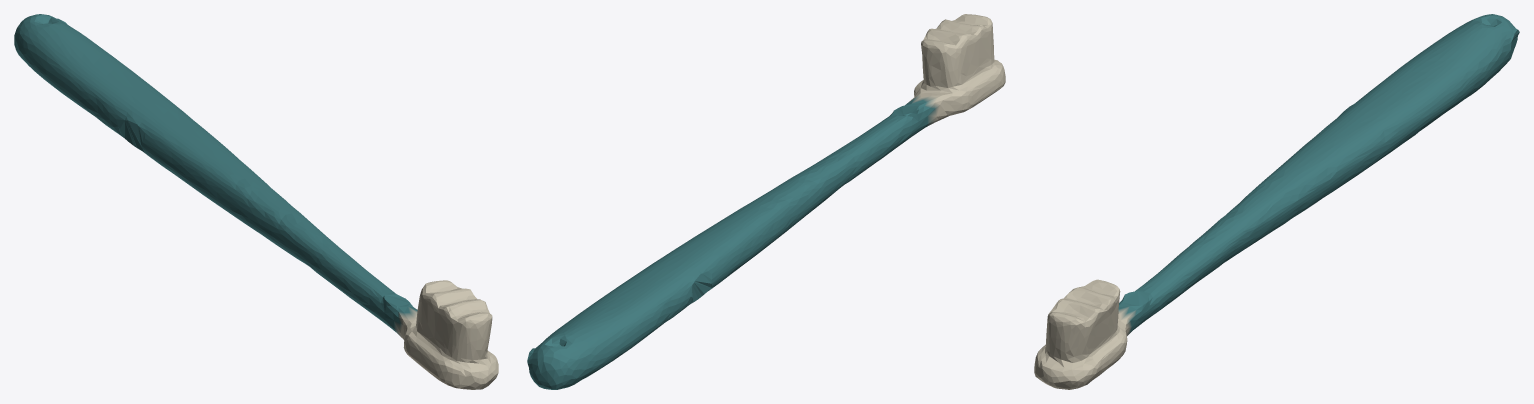
3 renders of one model, left to right at view 1: azimuth 30°, elevation 25°; view 2: azimuth 150°, elevation 25°; view 3: azimuth 330°, elevation 25°, orthographic.
Parts seen in each view (by area): view 1: scan.ply; view 2: scan.ply; view 3: scan.ply.
Part boxes in pixels (left/top/right/bottom): scan.ply: left=14, top=14, right=498, bottom=389; scan.ply: left=527, top=14, right=1005, bottom=389; scan.ply: left=1034, top=14, right=1519, bottom=389.
Bounding box in the file's own units: 0.0144 × 0.0165 × 0.1816.
